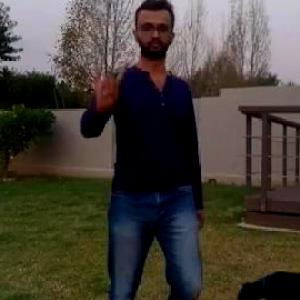takeoff-hand: (85, 54, 128, 110)
